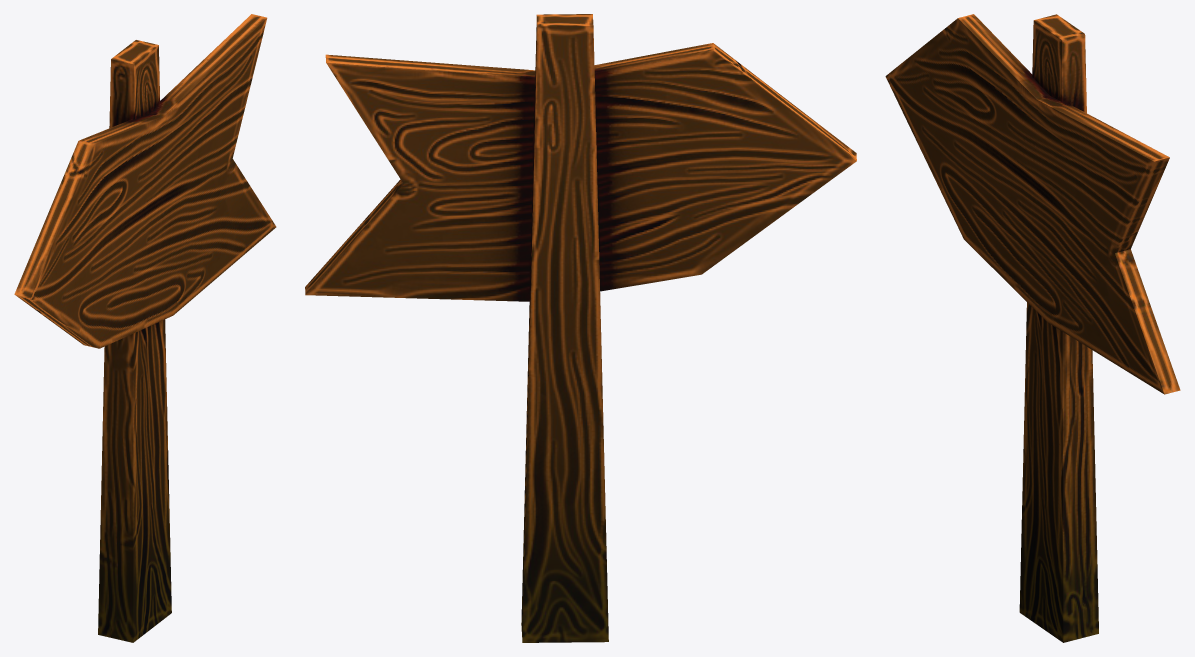
The model's file is sign3.fbx.
3 renders of one model, left to right at view 1: azimuth 30°, elevation 25°; view 2: azimuth 150°, elevation 25°; view 3: azimuth 270°, elevation 25°, orthographic. The views are drawn at different scales.
Visible parts, largest first — view 1: sign3; view 2: sign3; view 3: sign3.
Boxes of the visible parts, left/top/right/bottom form: sign3: left=14, top=14, right=276, bottom=642; sign3: left=305, top=14, right=856, bottom=642; sign3: left=885, top=14, right=1180, bottom=642.
Size of the model in its own units: 98.01 by 138 by 61.87.
